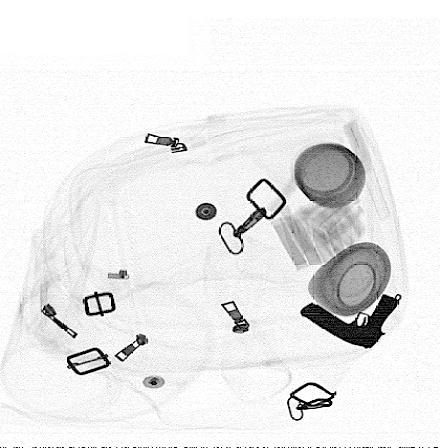Gun: (299, 294, 400, 349)
